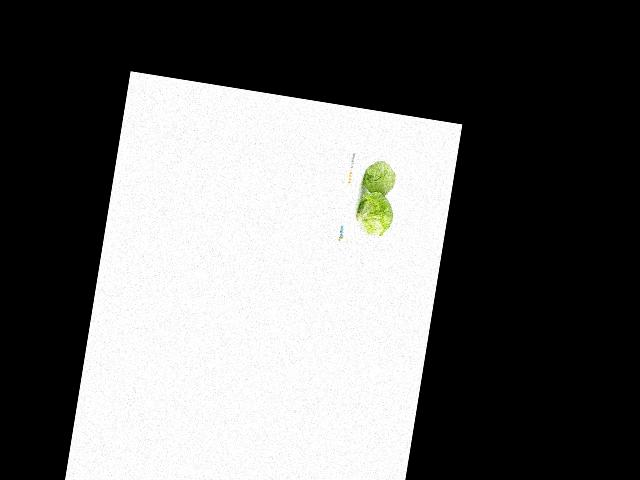lettuce: (352, 156, 398, 206)
